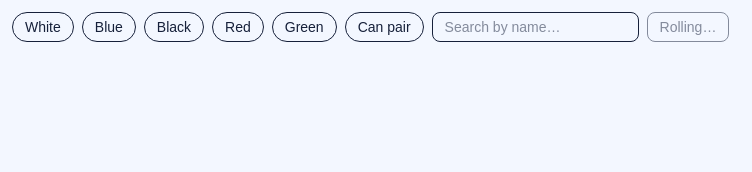
Test case: CommanderBrowser › ignores a slow response that a newer request has superseded
Click the button "Green".
click(304, 27)  # box left=272, top=12, right=337, bottom=42
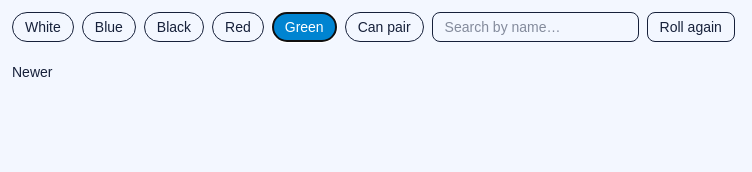
Expected: the text "Newer" is shown, left=12, top=64, right=52, bottom=80
